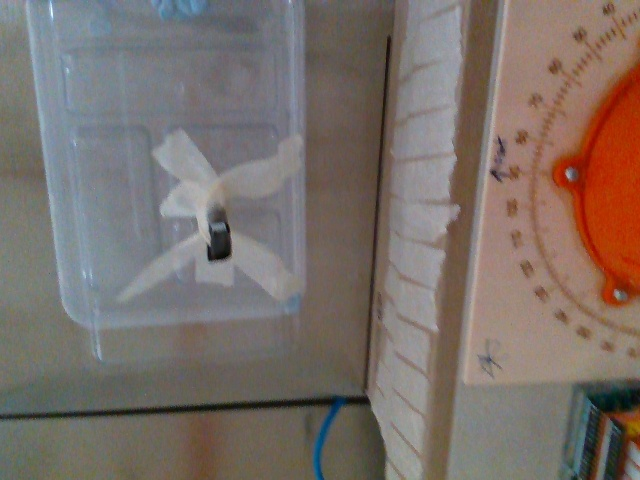test_strip: (203, 222, 233, 262)
